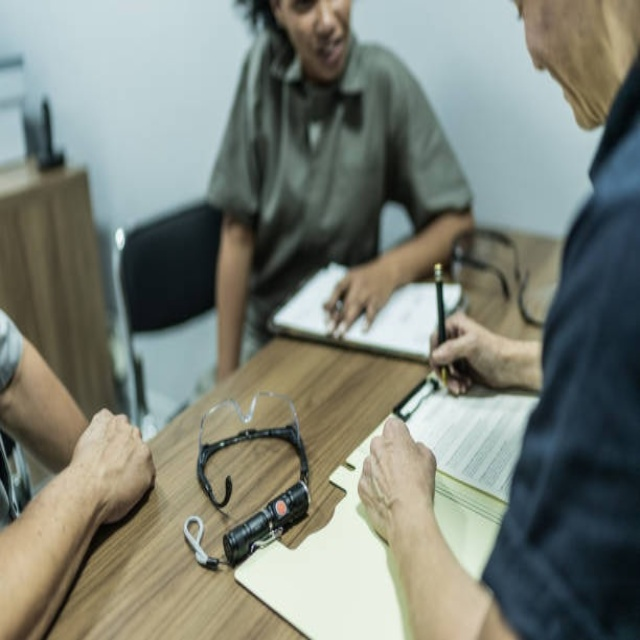Sin_guantes: (69, 405, 159, 528), (355, 413, 435, 550), (426, 308, 538, 396)
